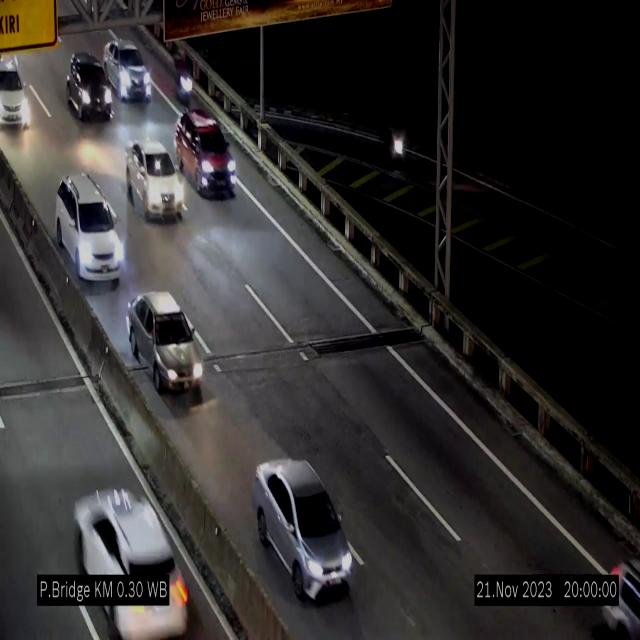Car: (66, 474, 192, 640), (252, 460, 354, 599), (127, 291, 204, 393), (55, 175, 126, 285), (175, 104, 238, 202), (124, 133, 184, 224), (0, 42, 44, 141), (65, 49, 114, 124), (104, 42, 152, 100)
Motorcycle: (172, 44, 194, 118)
